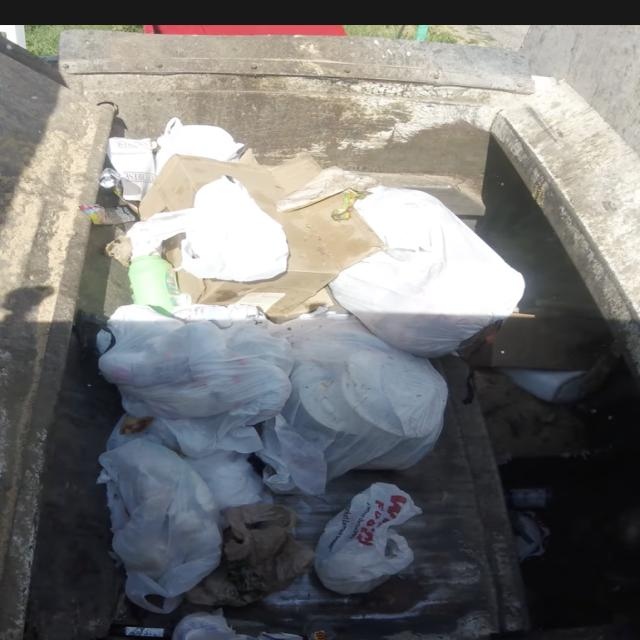bag: (232, 313, 468, 493), (337, 174, 553, 357), (90, 290, 331, 422), (84, 423, 233, 627), (269, 479, 462, 606), (120, 186, 298, 302)
paper: (123, 139, 385, 300)
